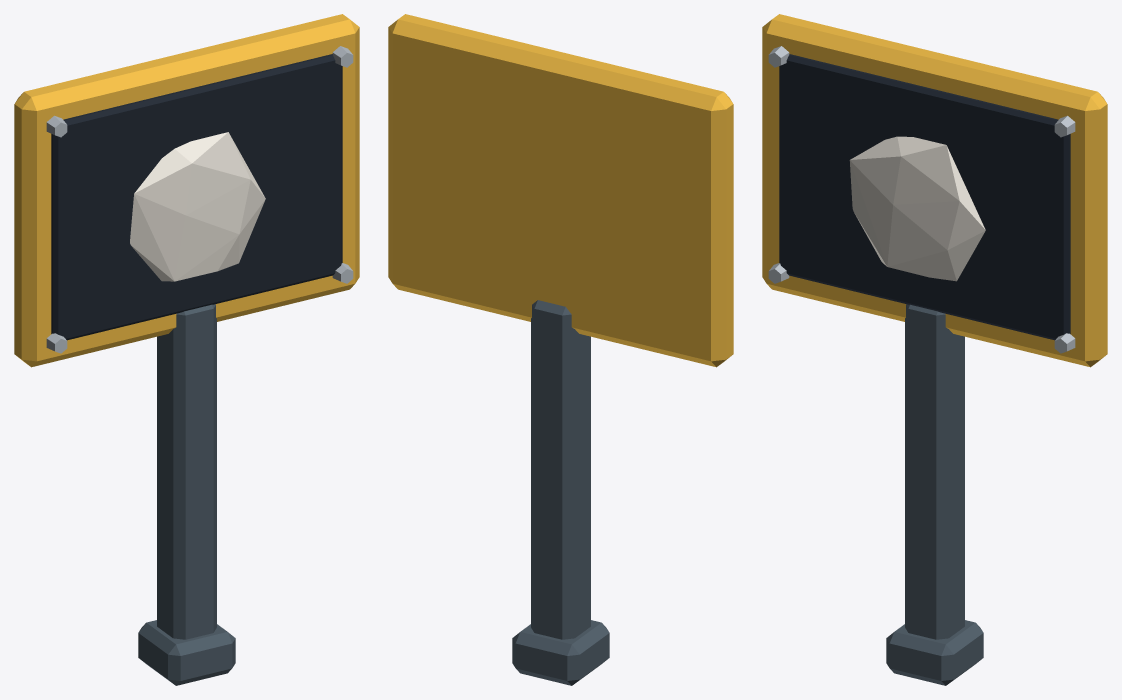
File: Station_Sign.fbx
3 views of the same model, side by side, from view 1: azimuth 30°, elevation 25°; view 2: azimuth 150°, elevation 25°; view 3: azimuth 330°, elevation 25° (orthographic).
Parts seen in each view (by area): view 1: Slate, Accent_Metal, Frame, Cream, SteelLight; view 2: Accent_Metal, Frame; view 3: Slate, Accent_Metal, Frame, Cream, SteelLight.
Part boxes in pixels (x1,y1,x2,y2): Slate: (51, 54, 342, 340); Accent_Metal: (14, 14, 359, 367); Frame: (138, 304, 235, 685); Cream: (130, 132, 265, 281); SteelLight: (46, 46, 353, 353); Accent_Metal: (388, 14, 733, 367); Frame: (512, 300, 609, 685); Slate: (779, 54, 1070, 340); Accent_Metal: (762, 14, 1107, 367); Frame: (886, 304, 983, 685); Cream: (849, 136, 985, 281); SteelLight: (768, 46, 1075, 353).
Size of the model in its own units: 1.7 by 2.95 by 0.3476.
